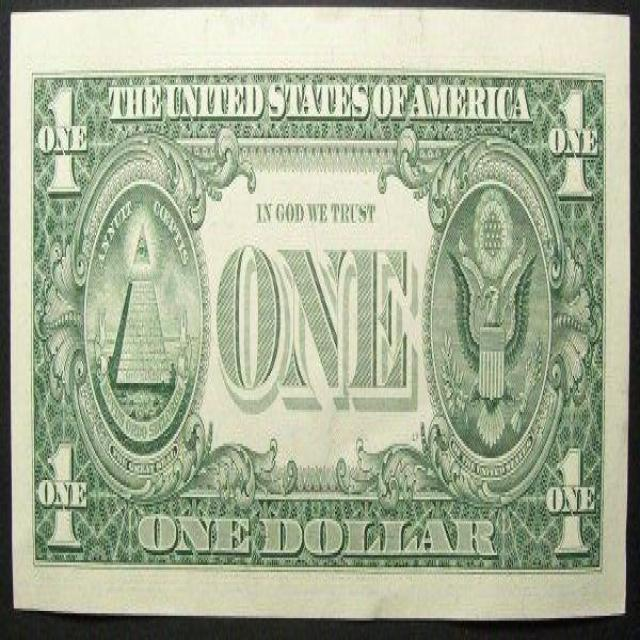1-Back: (12, 12, 626, 616)
